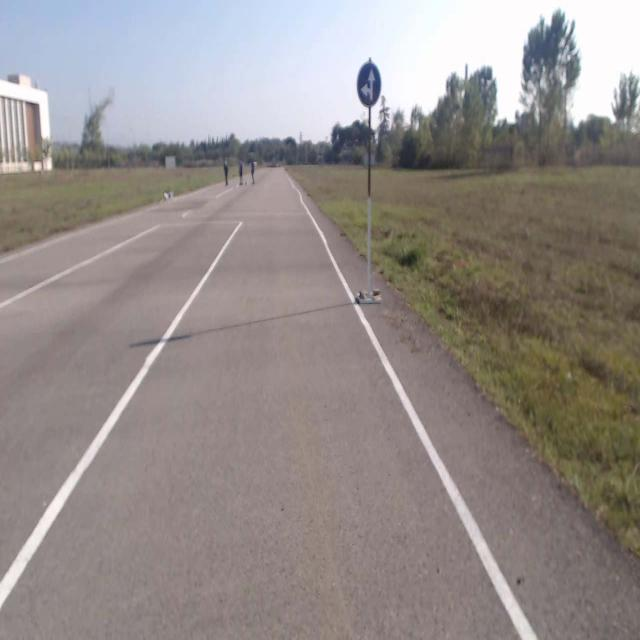ilerisol: (356, 61, 382, 110)
